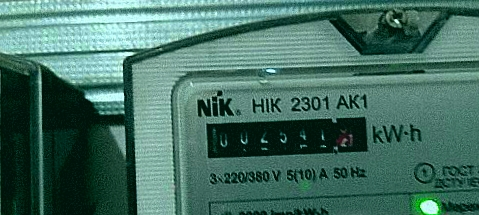0: (215, 127, 229, 148), (236, 124, 249, 145)
1: (315, 122, 327, 142)
2: (256, 124, 269, 145)
4: (296, 122, 309, 143)
5: (275, 122, 288, 145)
6: (337, 133, 349, 149)
screen: (194, 106, 378, 167)
